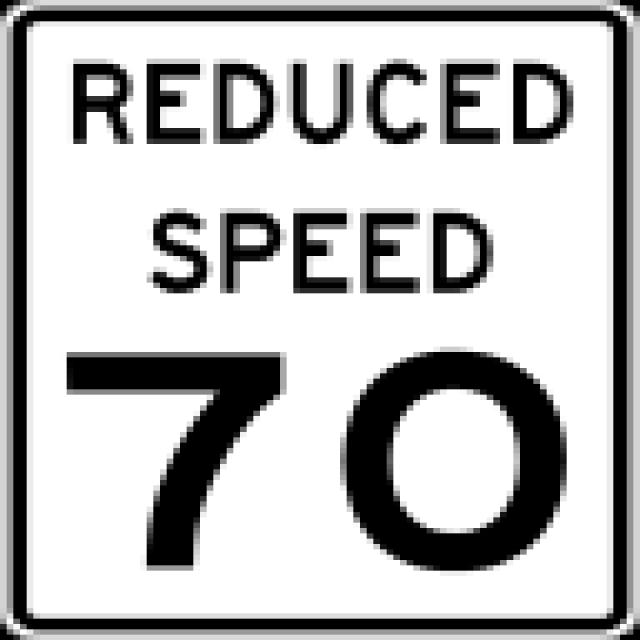Speed Limit -70-: (42, 179, 600, 593)
